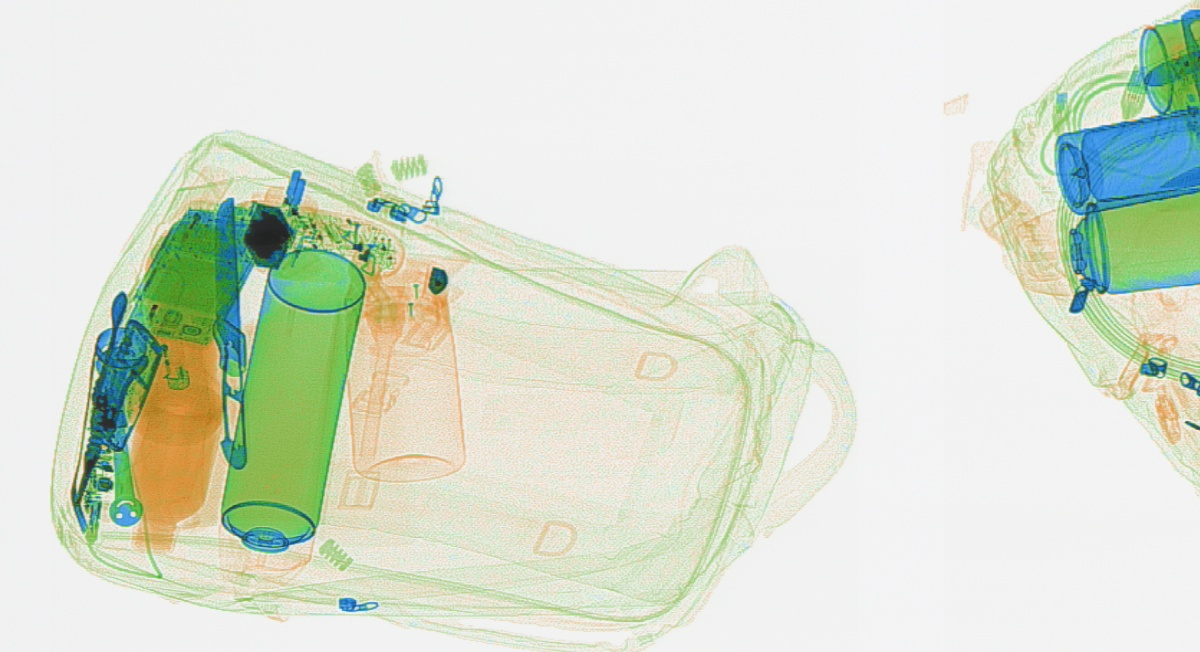knife: (208, 193, 247, 468)
lighter: (143, 273, 191, 390)
pressure: (216, 245, 368, 574), (1013, 186, 1198, 297)
